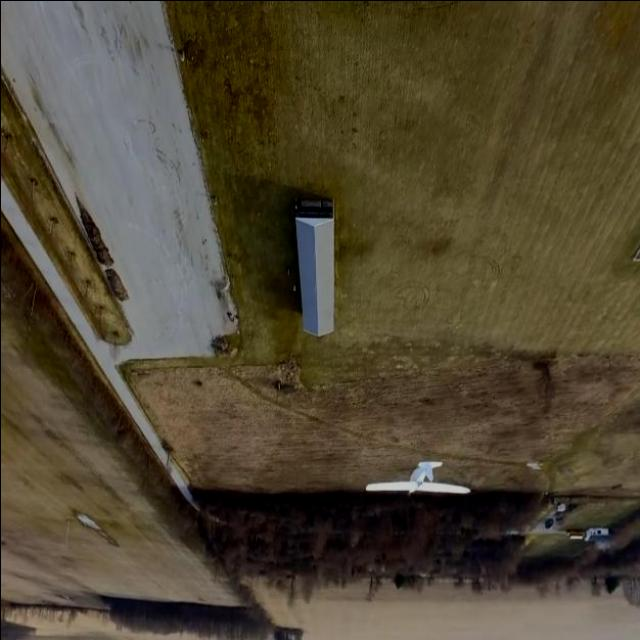plane: (362, 459, 470, 496)
